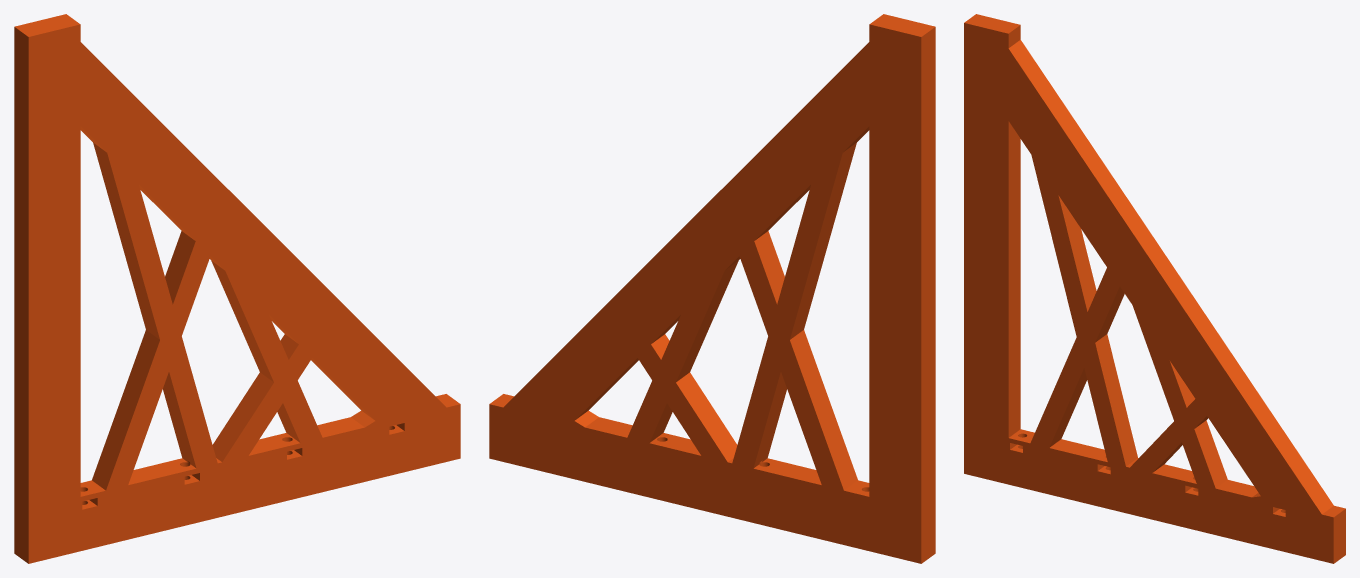
The model's file is .right_rear_bracket.step.glb.
The picture shows the model from 3 angles, left to right: view 1: azimuth 30°, elevation 25°; view 2: azimuth 150°, elevation 25°; view 3: azimuth 330°, elevation 25°; orthographic projection. The views are drawn at different scales.
Parts seen in each view (by area): view 1: o1; view 2: o1; view 3: o1.
Boxes of the visible parts, bbox=[...] form: o1: bbox=[14, 14, 460, 563]; o1: bbox=[489, 14, 935, 563]; o1: bbox=[964, 14, 1345, 563].
Size of the model in its own units: 0.2111 by 0.246 by 0.012.
